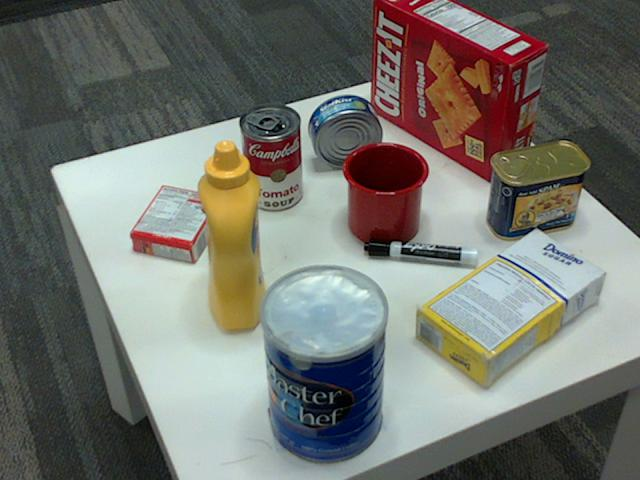cracker_box: (370, 0, 547, 182)
gelatin_box: (127, 182, 220, 260)
large_marker: (365, 239, 479, 269)
master_chef_can: (258, 267, 388, 466)
mug: (339, 141, 428, 245)
mustard_bottle: (195, 140, 264, 330)
potted_meat_can: (486, 142, 588, 241)
sugar_box: (412, 228, 604, 389)
tomato_soup_can: (238, 104, 301, 211)
tuna_fish_can: (307, 94, 381, 168)
